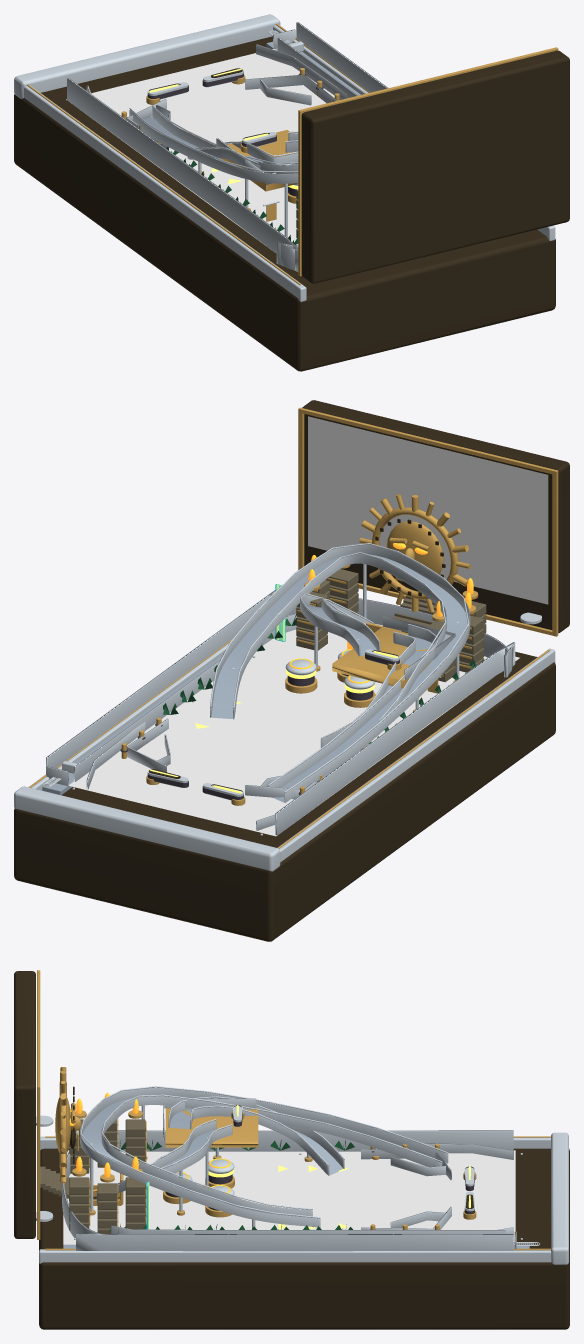
File: temple.glb
The picture shows the model from 3 angles, top to bottom: view 1: azimuth 30°, elevation 25°; view 2: azimuth 150°, elevation 25°; view 3: azimuth 270°, elevation 25°; orthographic projection. The views are drawn at different scales.
Visible parts, largest first — view 1: static-Obsidian, static-Chrome, static-Playfield, static-Gold, static-Ramp; view 2: static-Obsidian, static-Chrome, static-Backglass, static-Playfield, static-Gold, static-Ramp, static-Stone, static-Leaf, static-Secondary; view 3: static-Obsidian, static-Chrome, static-Playfield, static-Gold, static-Stone, static-Ramp, static-Leaf, static-Secondary.
Part boxes in pixels (x1=…): static-Obsidian: x1=14, y1=36, x2=569, y2=371; static-Chrome: x1=14, y1=14, x2=555, y2=301; static-Playfield: x1=66, y1=49, x2=334, y2=249; static-Gold: x1=27, y1=23, x2=558, y2=285; static-Ramp: x1=143, y1=41, x2=360, y2=167; static-Obsidian: x1=14, y1=400, x2=569, y2=941; static-Chrome: x1=14, y1=543, x2=555, y2=871; static-Backglass: x1=308, y1=416, x2=548, y2=604; static-Playfield: x1=69, y1=623, x2=519, y2=836; static-Gold: x1=29, y1=407, x2=558, y2=848; static-Ramp: x1=42, y1=554, x2=467, y2=802; static-Stone: x1=296, y1=569, x2=486, y2=682; static-Leaf: x1=163, y1=614, x2=482, y2=750; static-Secondary: x1=289, y1=543, x2=473, y2=683; static-Obsidian: x1=14, y1=971, x2=569, y2=1329; static-Chrome: x1=36, y1=1086, x2=568, y2=1264; static-Playfield: x1=63, y1=1150, x2=515, y2=1244; static-Gold: x1=37, y1=970, x2=550, y2=1250; static-Stone: x1=40, y1=1119, x2=145, y2=1233; static-Ramp: x1=63, y1=1098, x2=529, y2=1248; static-Leaf: x1=109, y1=1139, x2=354, y2=1233; static-Secondary: x1=69, y1=1092, x2=230, y2=1193.
Bounding box in the file's own units: 0.69 × 0.67 × 1.38.
